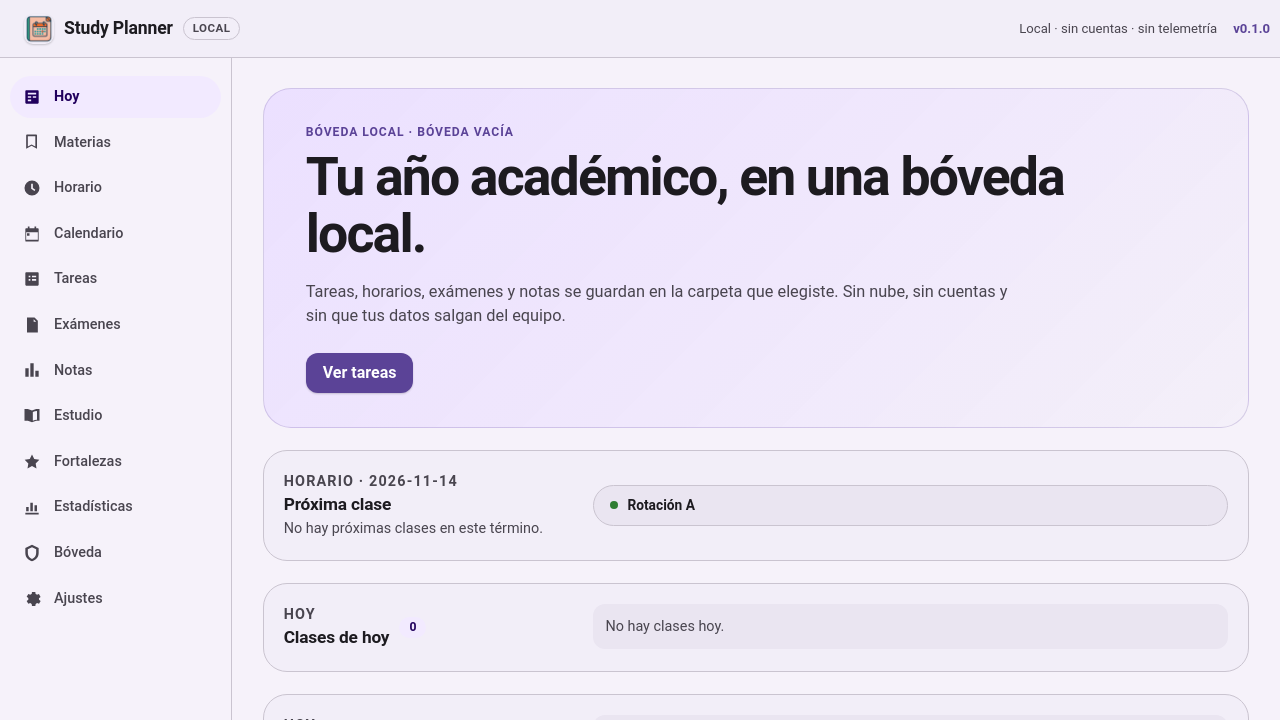
Test: App con IPC de Tauri › solo permite importar en una bóveda vacía
Click the button "Bóveda" at (116,553), box [10,532,221,574]
(page scrolled)
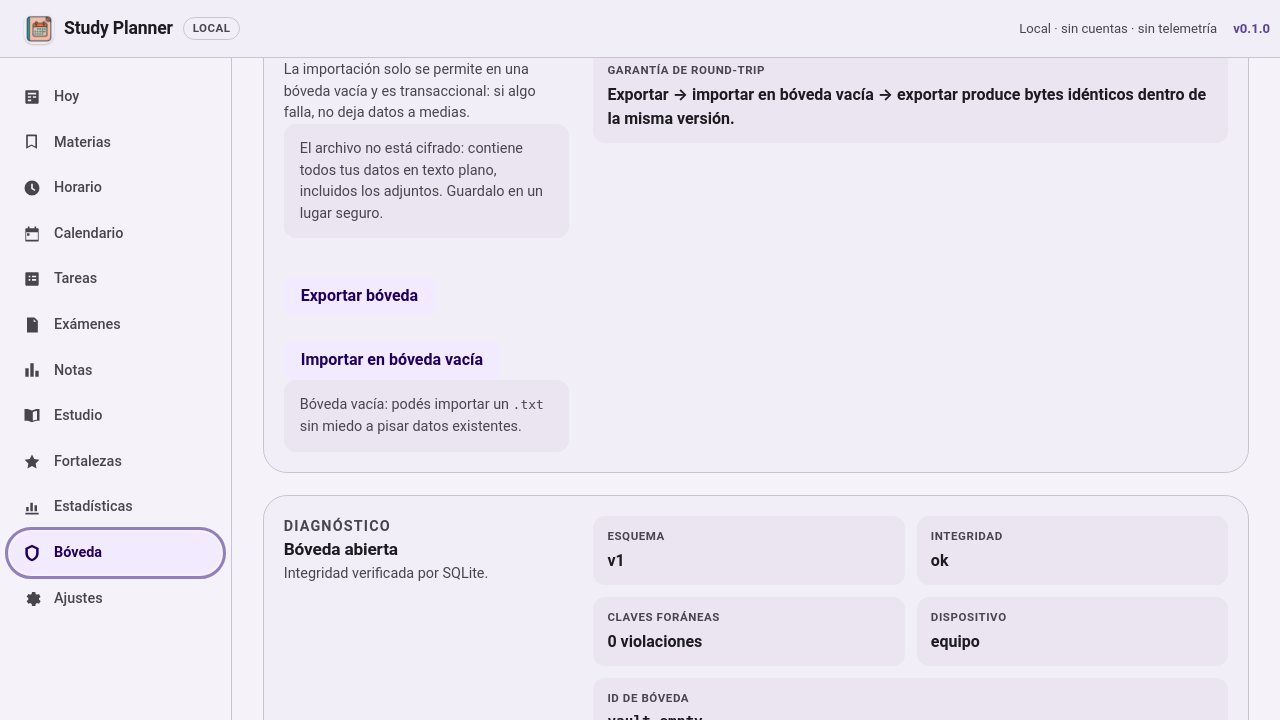
Expected: the button "Importar en bóveda vacía" is enabled
Click the button "Importar en bóveda vacía" at (392,360), box [284,340,500,380]
(page scrolled)
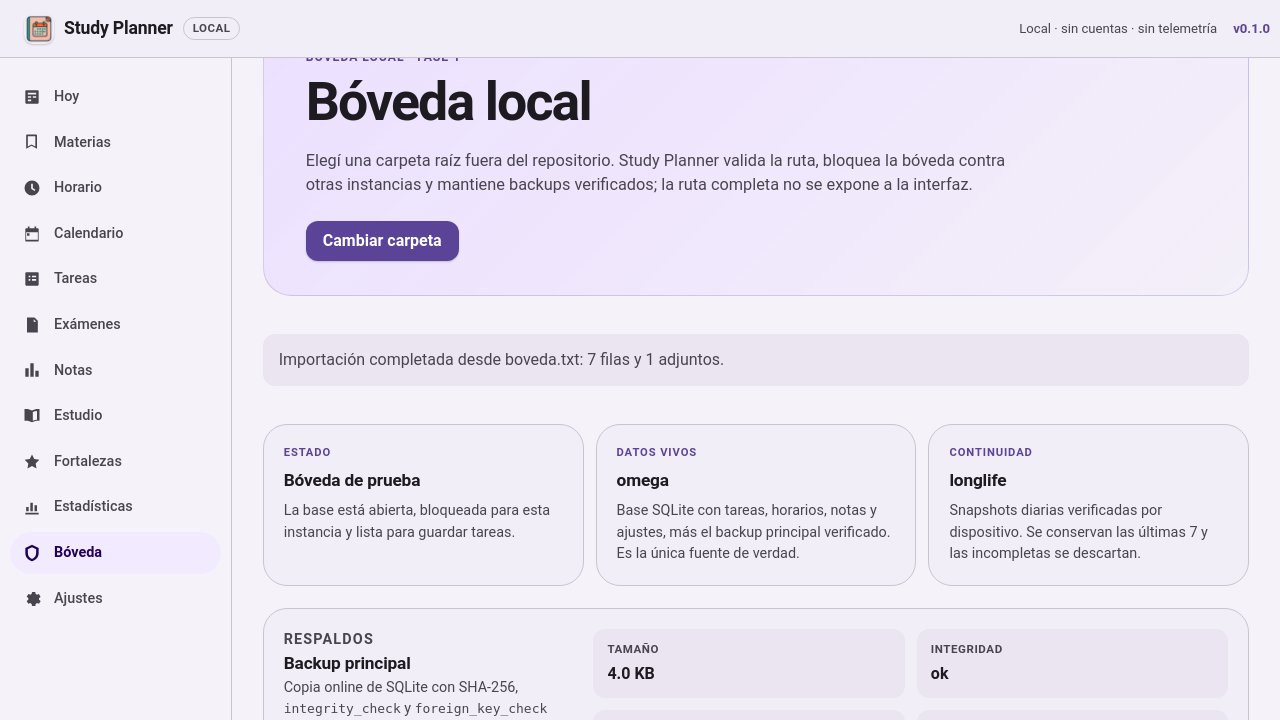
Expected: the text "Importación completada desde boveda.txt: 7 filas y 1 adjuntos." is shown, [263,334,1249,386]
